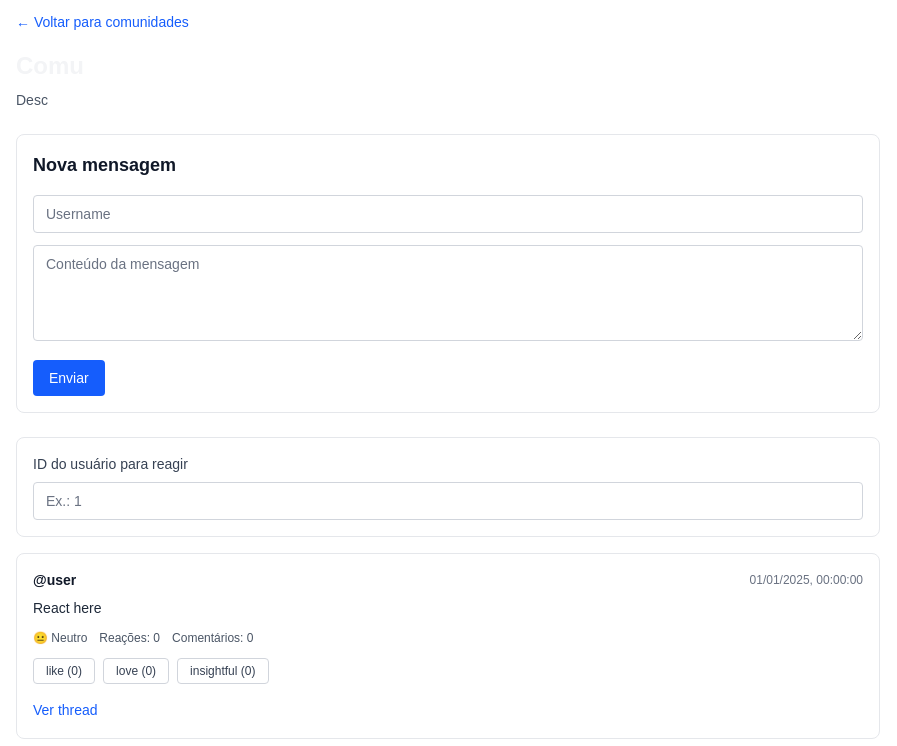
Test: CommunityTimelinePage › should update reaction counters on successful reaction
Check: the text "React here" is shown, box x1=33 y1=600 x2=102 y2=616
Step 1. Type "2" into the field with placeholder "Ex.: 1" → (448, 501), box x1=33 y1=482 x2=863 y2=520
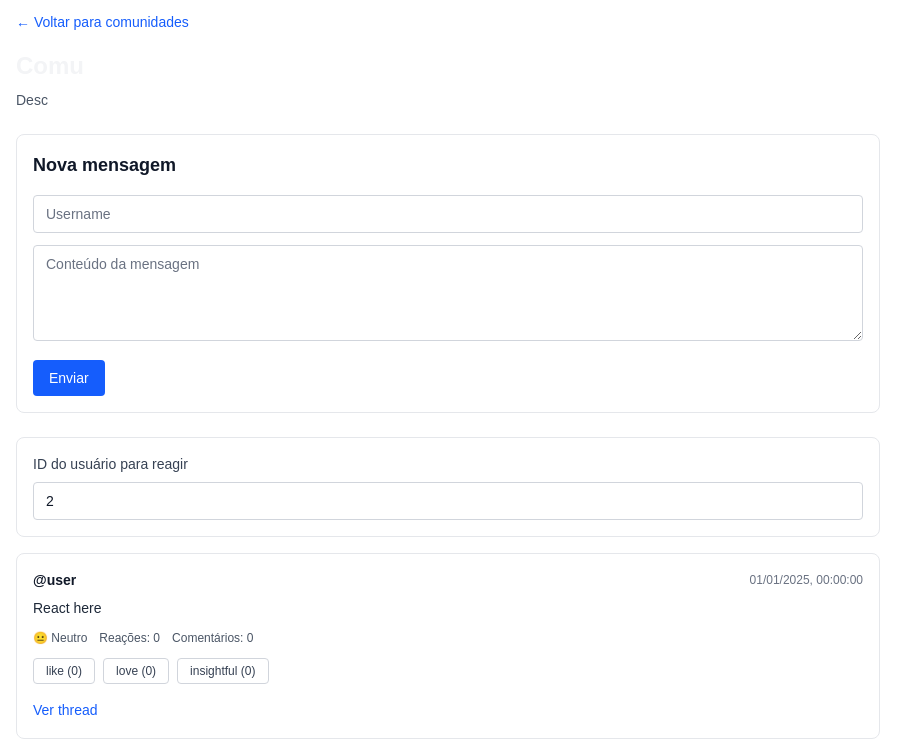
Step 2. Click the button "like (0)" → (64, 671), box x1=33 y1=658 x2=95 y2=684
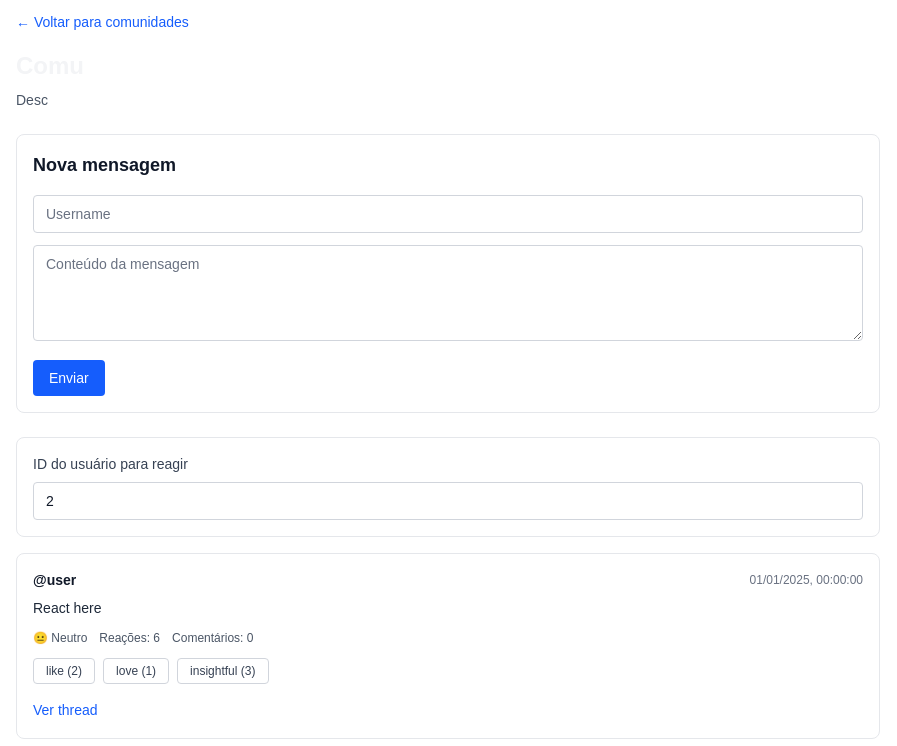
Check: the text "Reações: 6" is shown, box x1=99 y1=630 x2=160 y2=646
Check: the button "like (2)" is shown, box x1=33 y1=658 x2=95 y2=684
